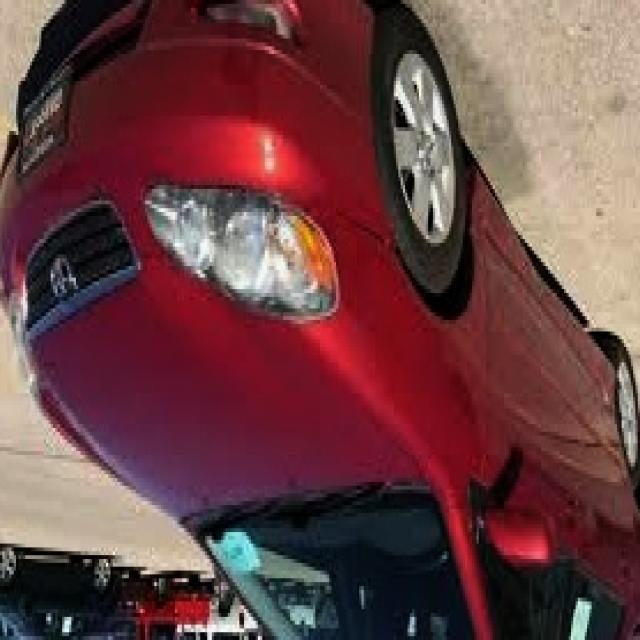red: (11, 0, 640, 638)
